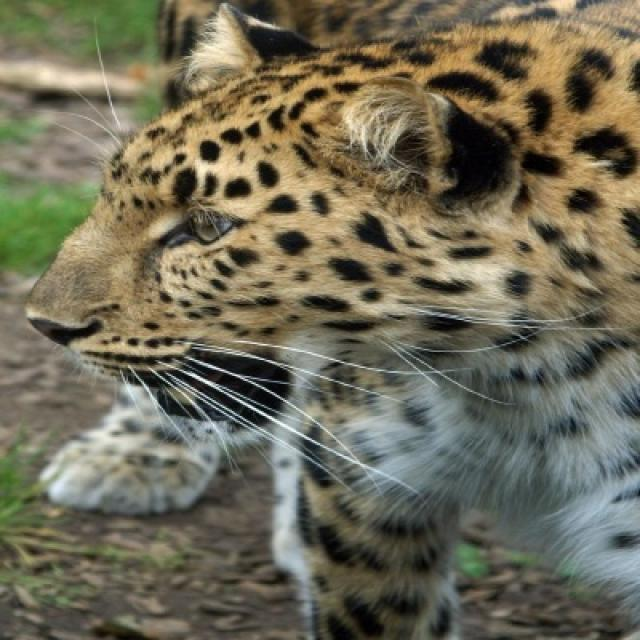Jaguar: (24, 0, 638, 638)
